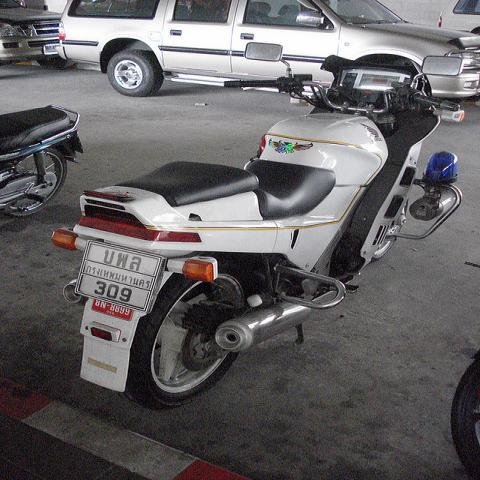car: (0, 0, 76, 72), (437, 0, 479, 36)
motorcycle: (43, 37, 466, 411), (3, 103, 89, 217)
truck: (2, 1, 479, 101)
